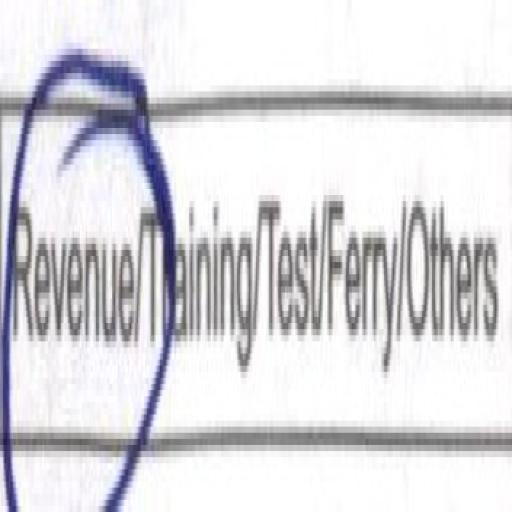check: (1, 51, 144, 512)
